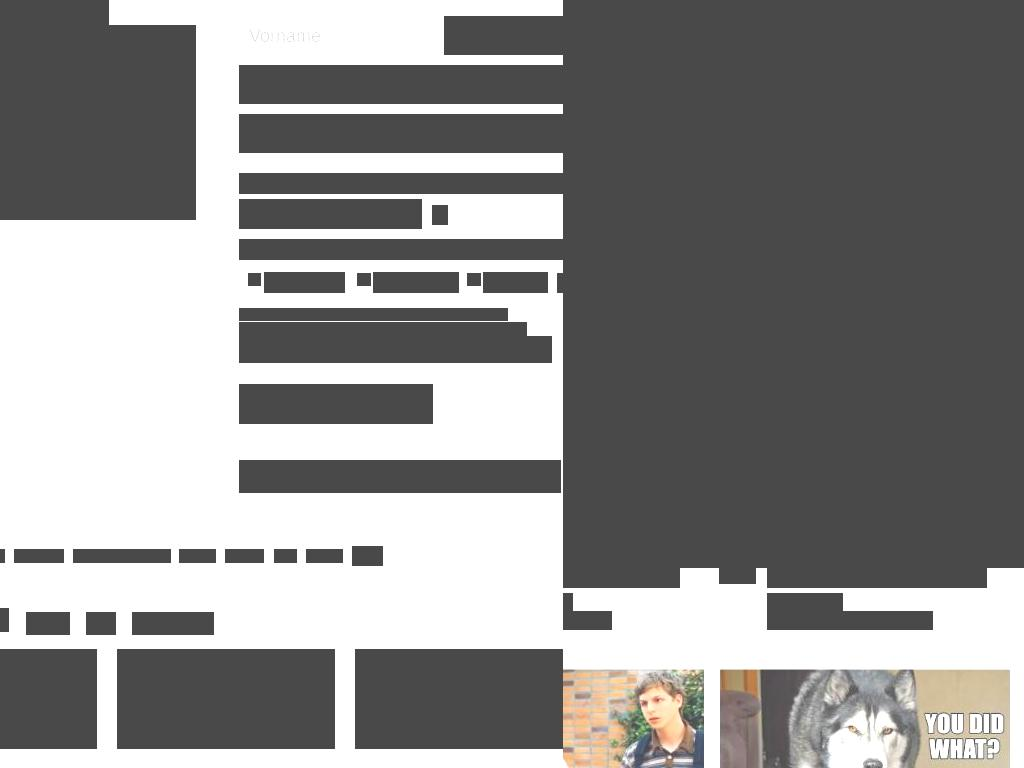button: (719, 669, 1011, 768), (563, 669, 704, 768), (239, 384, 433, 424), (767, 568, 987, 588), (667, 26, 755, 68), (563, 568, 680, 588), (132, 612, 214, 635), (767, 593, 843, 612), (26, 612, 70, 635), (86, 612, 116, 635), (352, 546, 383, 566), (719, 568, 756, 584), (563, 543, 583, 561), (432, 205, 448, 225), (557, 273, 563, 293)
field: (239, 65, 563, 104), (239, 114, 563, 153), (563, 242, 755, 290), (563, 318, 755, 366), (563, 394, 755, 442), (563, 470, 755, 518), (239, 16, 433, 55), (444, 16, 563, 55), (292, 199, 361, 229), (361, 199, 422, 229), (239, 199, 292, 229), (357, 273, 371, 286), (467, 273, 481, 286), (248, 273, 261, 286)
heading: (850, 440, 1024, 568), (563, 146, 755, 206), (563, 554, 1024, 568), (767, 568, 987, 588), (563, 568, 680, 588)
image: (563, 0, 1024, 568), (0, 25, 196, 220), (719, 669, 1011, 768), (117, 649, 335, 749), (355, 649, 563, 749), (563, 669, 704, 768), (0, 649, 97, 749), (722, 480, 747, 504), (719, 568, 756, 584), (432, 205, 448, 222), (361, 550, 374, 562), (557, 273, 563, 290)
label: (373, 272, 459, 293), (264, 272, 345, 293), (483, 272, 548, 293)
link: (239, 322, 527, 349), (239, 460, 350, 476), (239, 322, 349, 335), (73, 549, 171, 563), (395, 322, 465, 335), (14, 549, 64, 563), (225, 549, 264, 563), (179, 549, 216, 563), (306, 549, 343, 563), (274, 549, 297, 563)
text: (239, 460, 561, 493), (239, 336, 552, 363), (239, 173, 563, 194), (239, 239, 563, 260), (239, 308, 508, 321), (583, 543, 723, 560), (846, 611, 933, 630), (767, 611, 847, 630), (563, 611, 612, 630), (689, 37, 733, 57), (349, 322, 397, 335), (465, 322, 491, 335)
